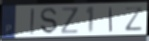1: (85, 5, 96, 35)
I: (29, 7, 36, 36), (108, 6, 113, 33)
S: (39, 7, 58, 35)
Z: (60, 6, 80, 35), (124, 6, 145, 32)
